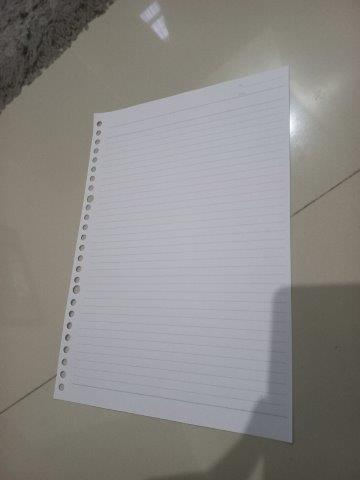kertas: (52, 65, 292, 443)
